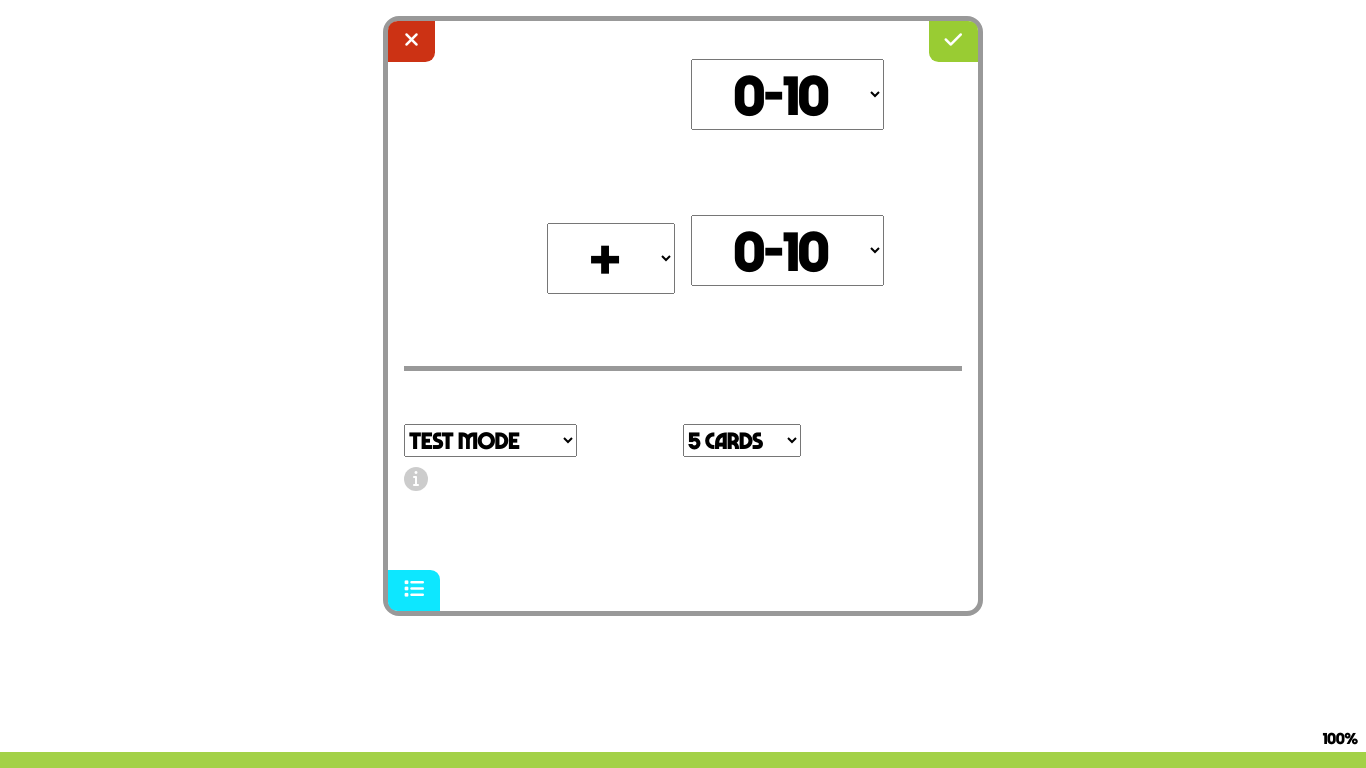
Test: Math Fact Flash App › check default operations ranges are set
Select "+" in the dropdown with id "operationselect" at {"x": 611, "y": 259}, box [547, 223, 675, 294]
Expected: the dropdown with id "term1select" shows "0-10", [691, 59, 884, 130]
Expected: the dropdown with id "term2select" shows "0-10", [691, 215, 884, 286]
Select "×" in the dropdown with id "operationselect" at {"x": 611, "y": 259}, box [547, 223, 675, 294]
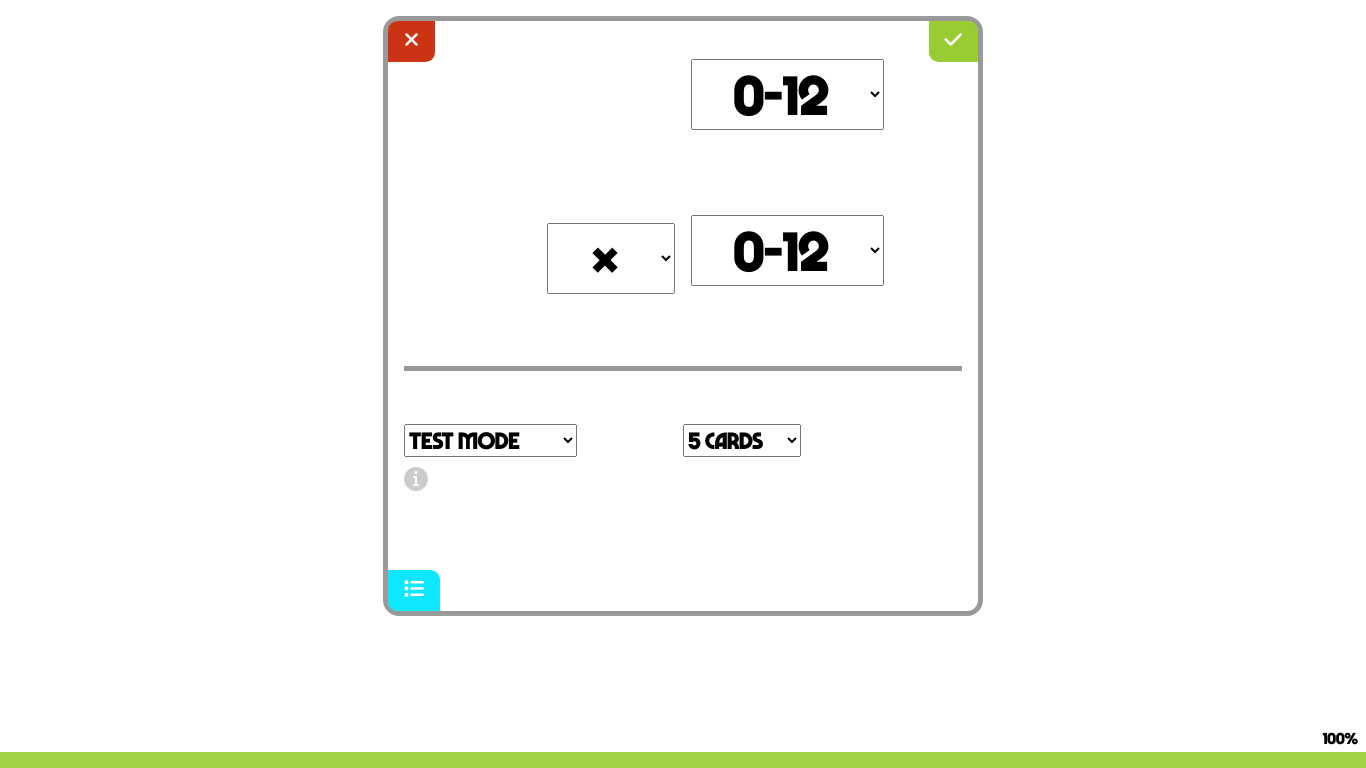
Result: the dropdown with id "term1select" shows "0-12" at [691, 59, 884, 130]
Result: the dropdown with id "term2select" shows "0-12" at [691, 215, 884, 286]
Select "-" in the dropdown with id "operationselect" at {"x": 611, "y": 259}, box [547, 223, 675, 294]
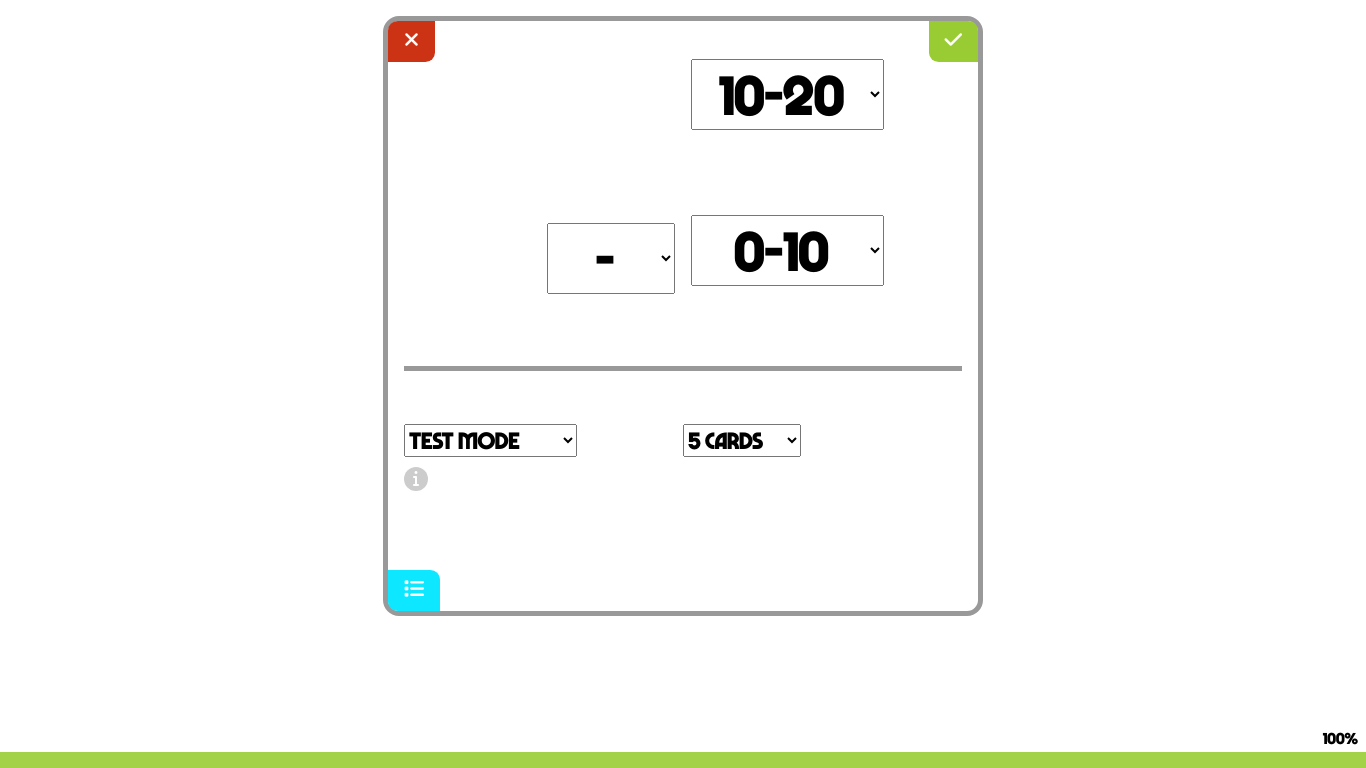
Result: the dropdown with id "term1select" shows "10-20" at [691, 59, 884, 130]
Result: the dropdown with id "term2select" shows "0-10" at [691, 215, 884, 286]
Select "÷" in the dropdown with id "operationselect" at {"x": 611, "y": 259}, box [547, 223, 675, 294]
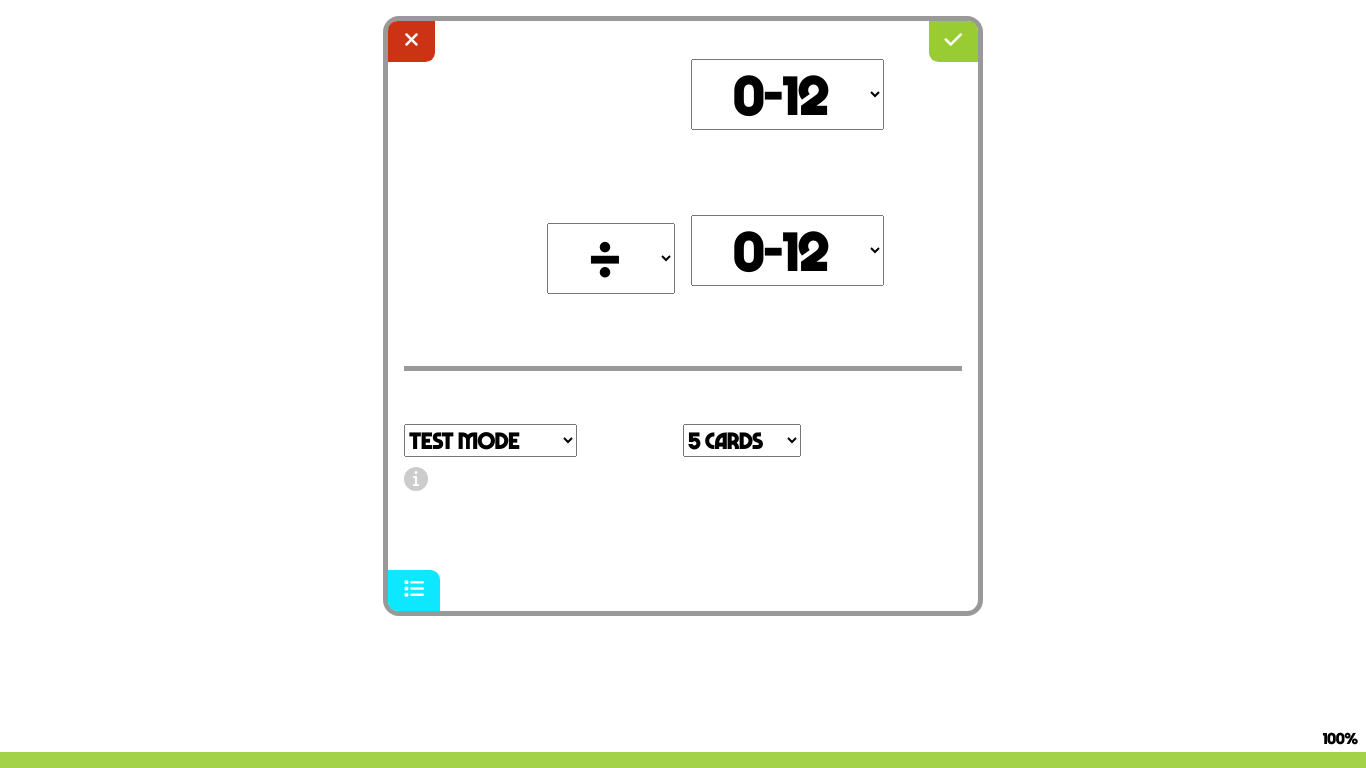
Result: the dropdown with id "term1select" shows "0-12" at [691, 59, 884, 130]
Result: the dropdown with id "term2select" shows "0-12" at [691, 215, 884, 286]
